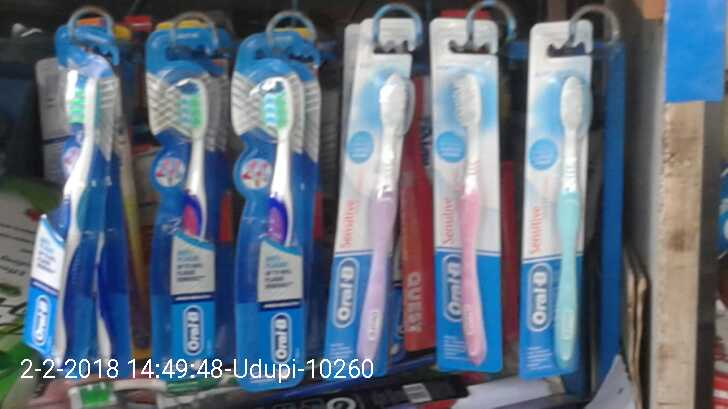oralb: (233, 46, 316, 382), (32, 43, 118, 366), (342, 51, 420, 373), (534, 54, 600, 363), (152, 43, 216, 354), (441, 70, 487, 359)
